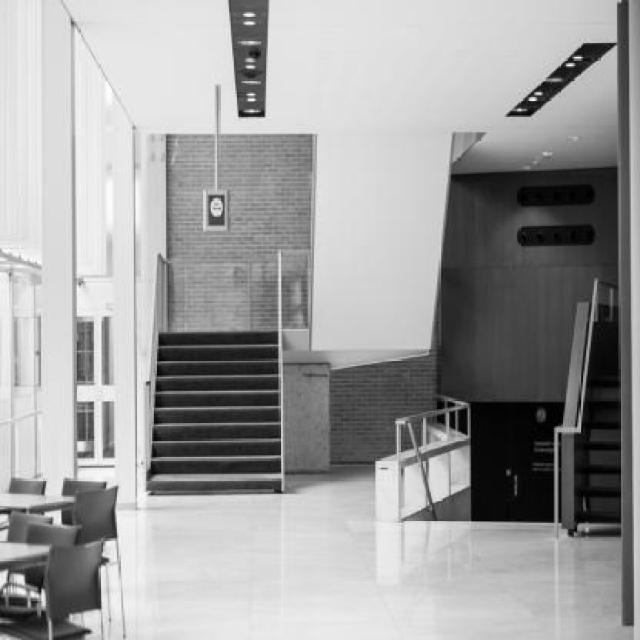stair: (146, 331, 283, 491), (576, 366, 622, 526)
